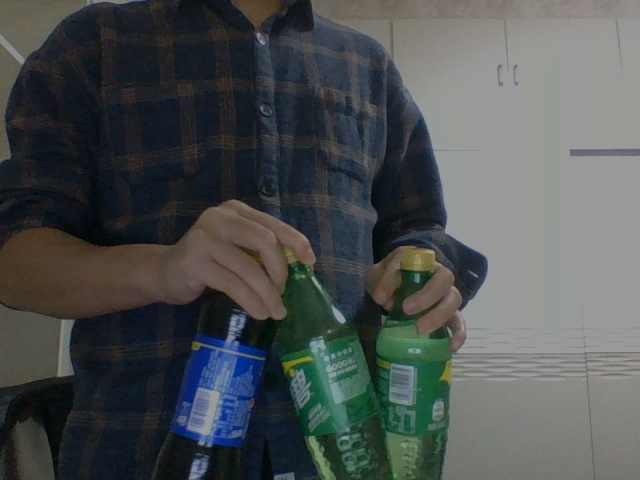Cola: (147, 238, 279, 475)
Sprite: (273, 242, 395, 478), (376, 246, 452, 477)
